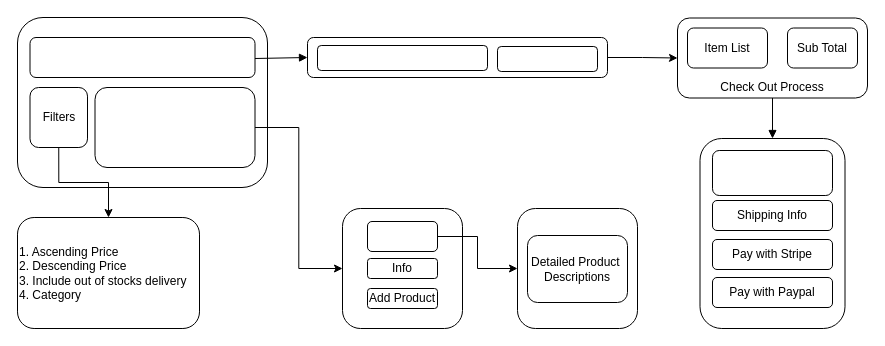
Some shapes in this 885 by 346 pixel diagram are drawn without their labels. Here are the shapes that lost their labels. From the top down, the centre of each, then its label:
the point at 142,57: Header
the point at 402,57: Search Bar
the point at 547,59: Cart
the point at 174,127: SingleProduct
the point at 772,173: Order Summary
the point at 402,236: Image
